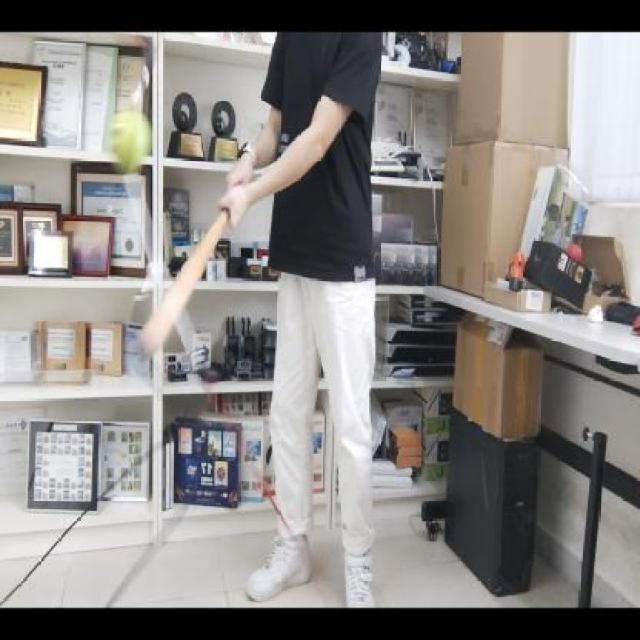baseball: (111, 109, 151, 169)
